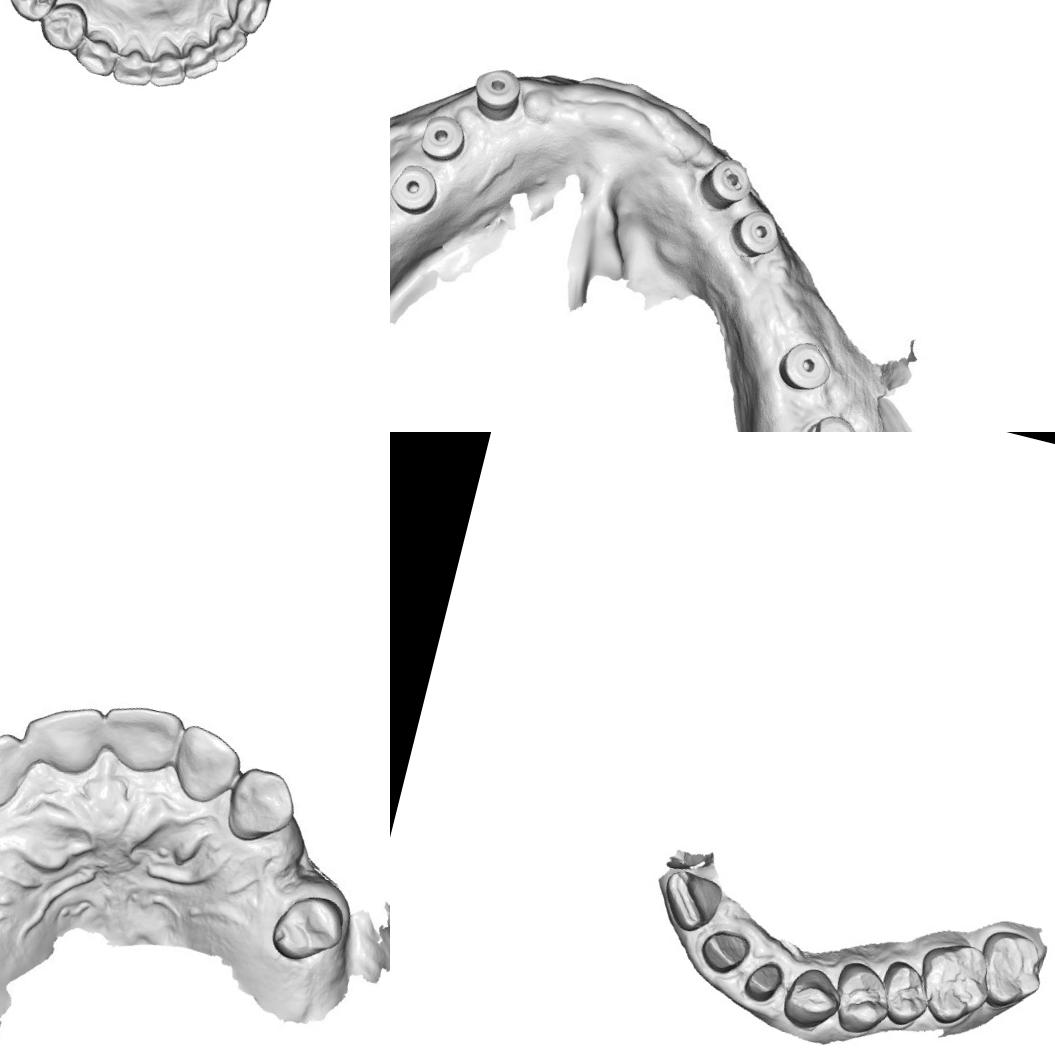canine: (220, 760, 304, 850), (777, 961, 847, 1038), (69, 23, 122, 79), (216, 0, 272, 36)
crown: (695, 921, 754, 981), (738, 952, 788, 1008)
implant: (764, 324, 855, 414), (719, 196, 795, 274), (464, 55, 528, 128), (412, 106, 473, 168), (390, 156, 444, 221), (789, 396, 874, 432)
implant_minus: (689, 143, 758, 218)
incisor: (15, 692, 108, 780), (92, 695, 187, 780), (165, 719, 248, 811), (654, 862, 728, 940), (0, 719, 36, 817), (140, 31, 194, 94), (198, 10, 252, 68), (172, 29, 226, 85), (110, 30, 160, 90)
molar: (907, 931, 1003, 1034), (967, 924, 1055, 1016)
premolar: (264, 886, 352, 972), (824, 957, 898, 1042), (874, 956, 938, 1032), (34, 0, 94, 55), (1, 0, 63, 26)
